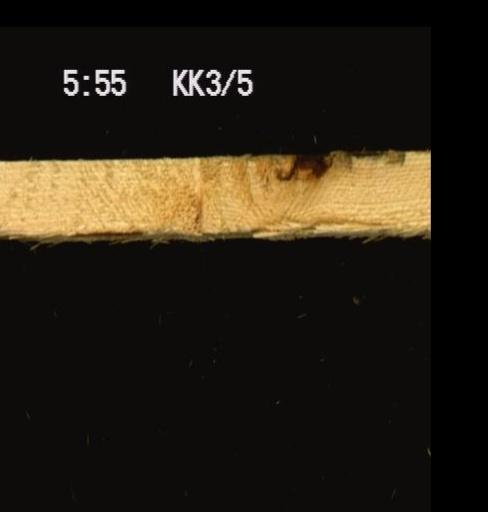edge_knot: (269, 151, 334, 185)
